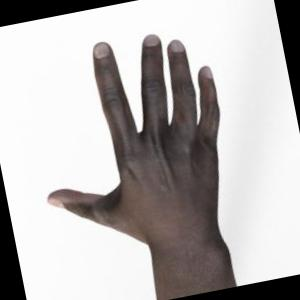paper: (48, 34, 236, 300)
